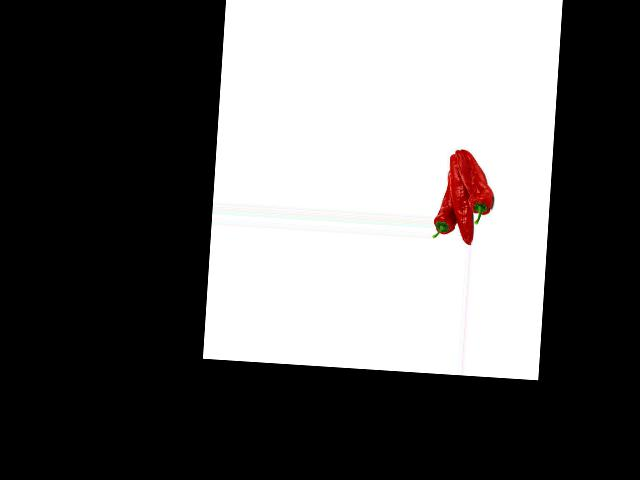bell_pepper: (459, 148, 498, 227)
